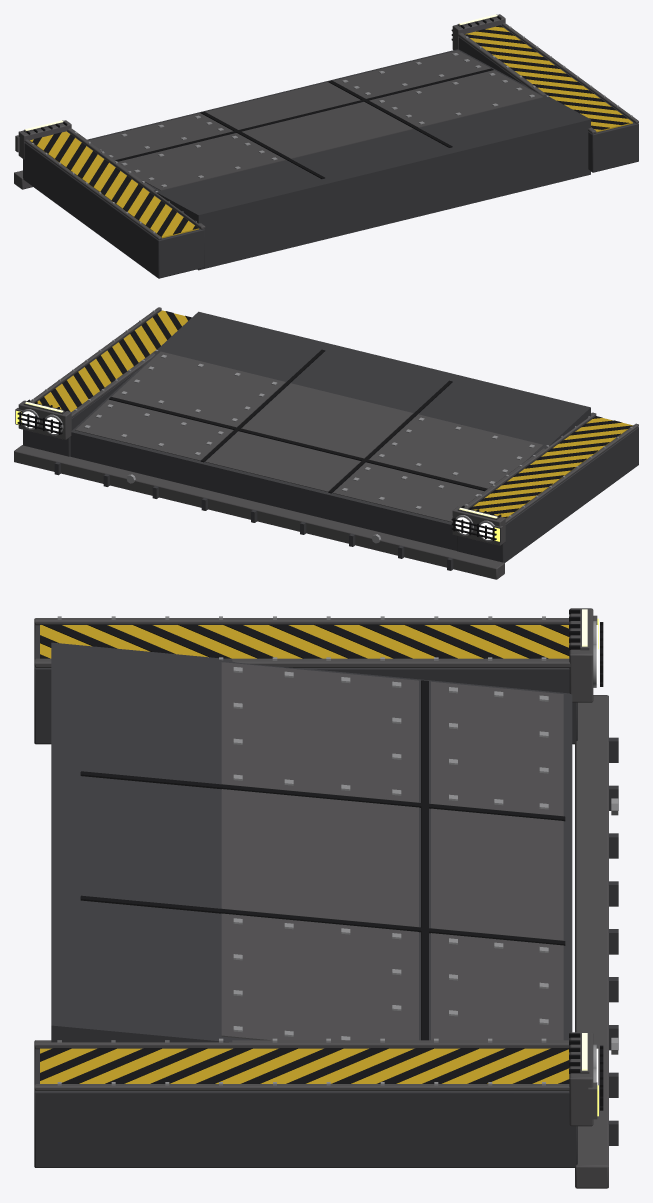
Rendered from hood.glb.
3 renders of one model, top to bottom at view 1: azimuth 30°, elevation 25°; view 2: azimuth 150°, elevation 25°; view 3: azimuth 270°, elevation 25°, orthographic. The views are drawn at different scales.
Parts seen in each view (by area): view 1: hood; view 2: hood; view 3: hood.
Part boxes in pixels (x1,y1,x2,y2): hood: (14,14,638,278); hood: (14,307,638,579); hood: (34,608,618,1188).
Size of the model in its own units: 19.8 by 2.32 by 10.32.
